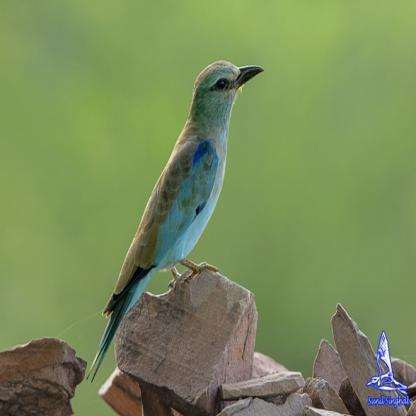Burung: (85, 59, 264, 383)
